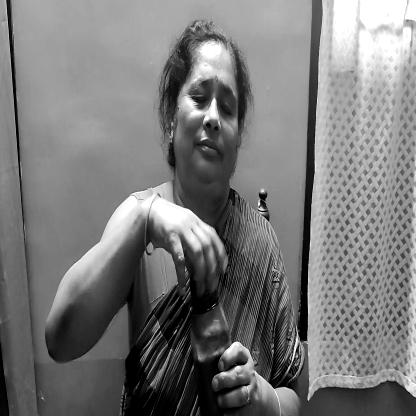Normal: (164, 28, 250, 202)
